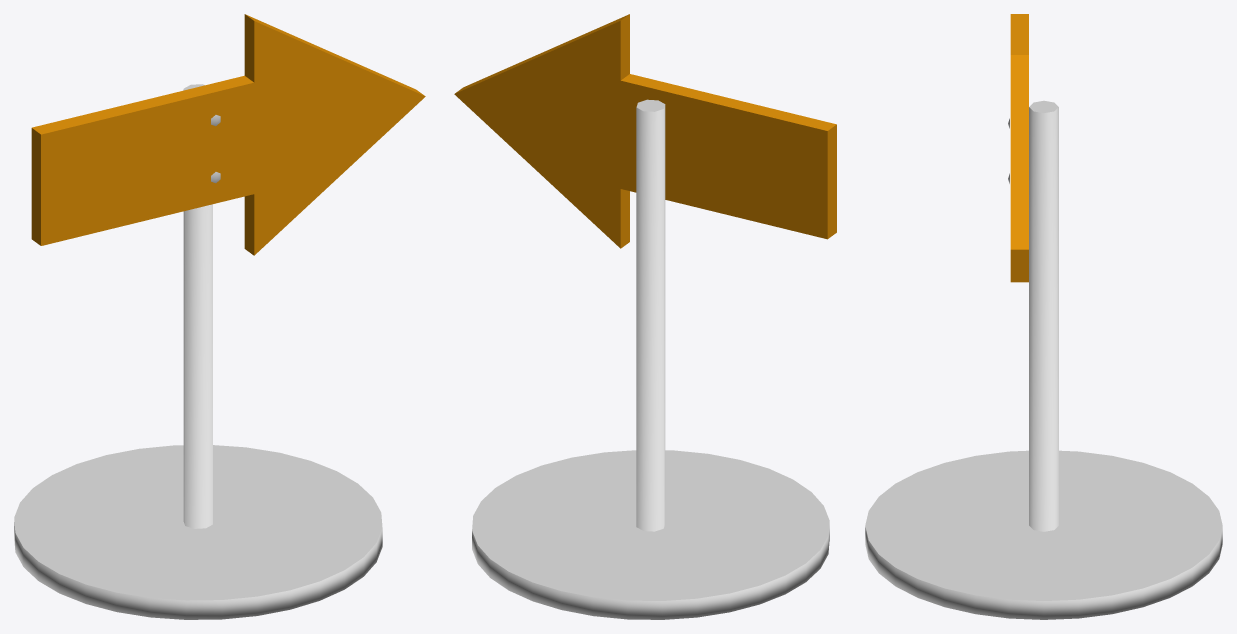
File: Pointer.fbx
3 renders of one model, left to right at view 1: azimuth 30°, elevation 25°; view 2: azimuth 150°, elevation 25°; view 3: azimuth 270°, elevation 25°, orthographic. The views are drawn at different scales.
Parts seen in each view (by area): view 1: Pointer; view 2: Pointer; view 3: Pointer.
Boxes of the visible parts, box(x1,y1,x2,y2) form: Pointer: box(14, 14, 425, 619); Pointer: box(454, 14, 836, 619); Pointer: box(865, 14, 1222, 619).
Bounding box in the file's own units: 144 × 188 × 120.
